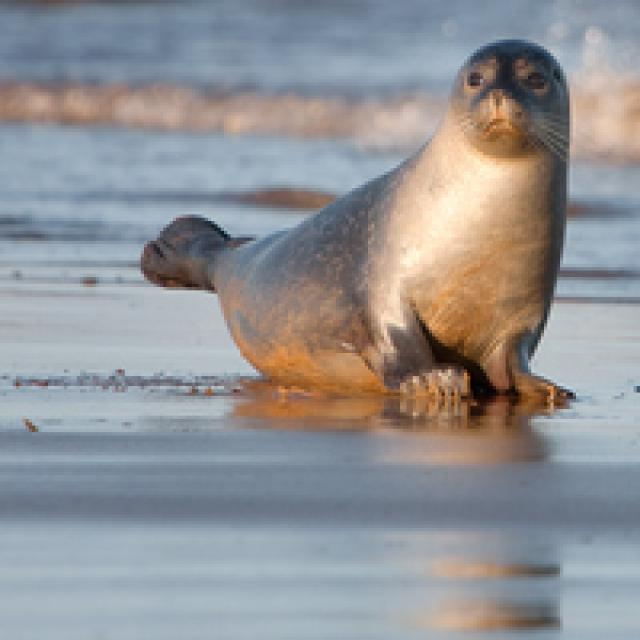WaterDog: (135, 33, 582, 432)
